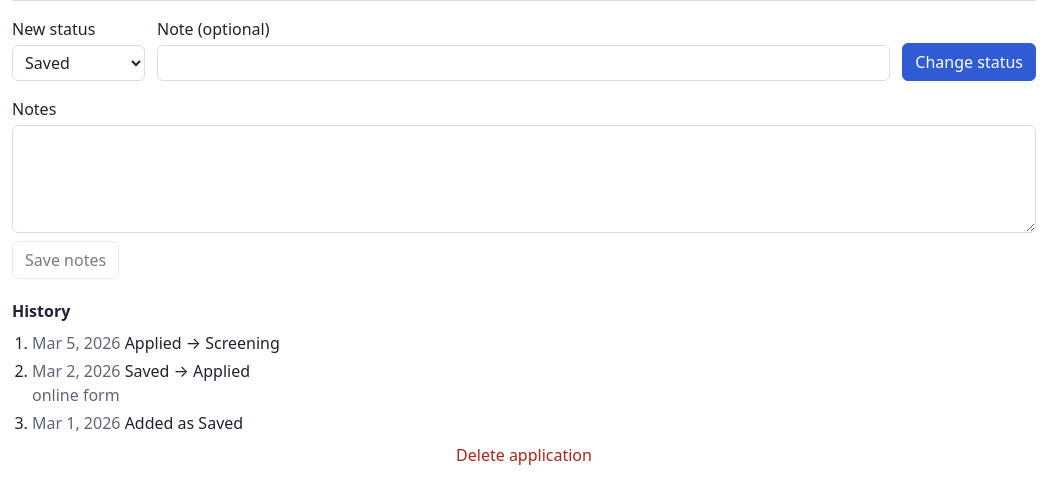
Test case: ApplicationDetail › shows the error when a status change fails
Click the button "Change status". click: click(969, 62)
box: [902,43,1036,81]
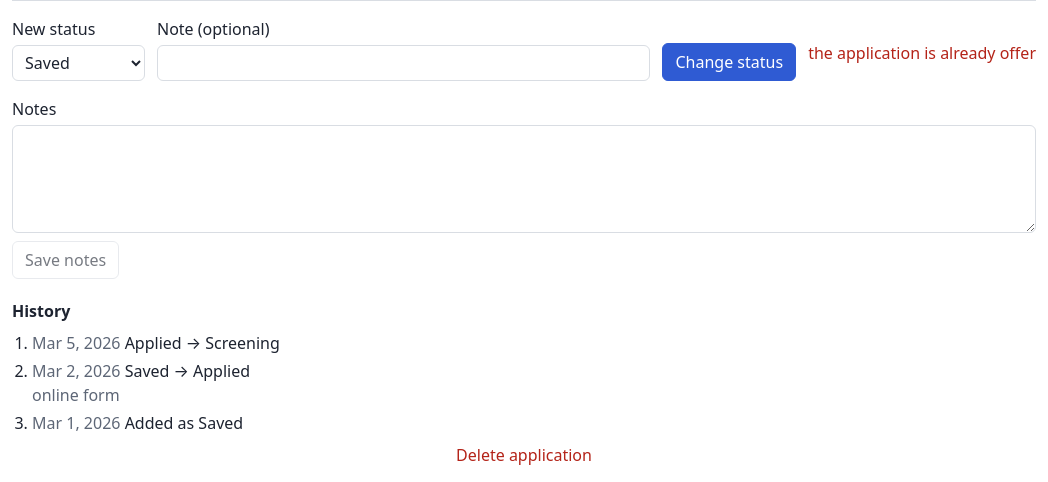
Now the text "the application is already offer" is shown, box [808,41,1036,65]
